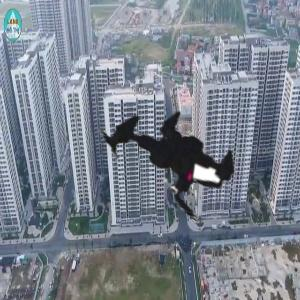drone: (64, 62, 271, 269)
